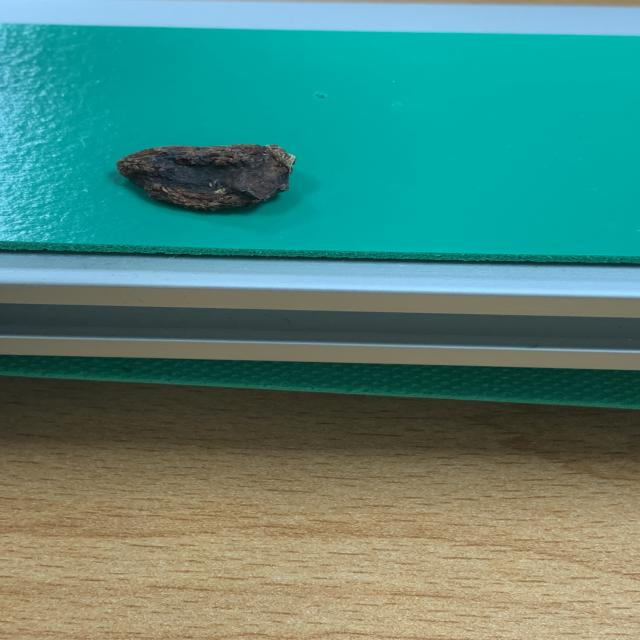Flat_cocoabeans: (76, 103, 346, 243)
